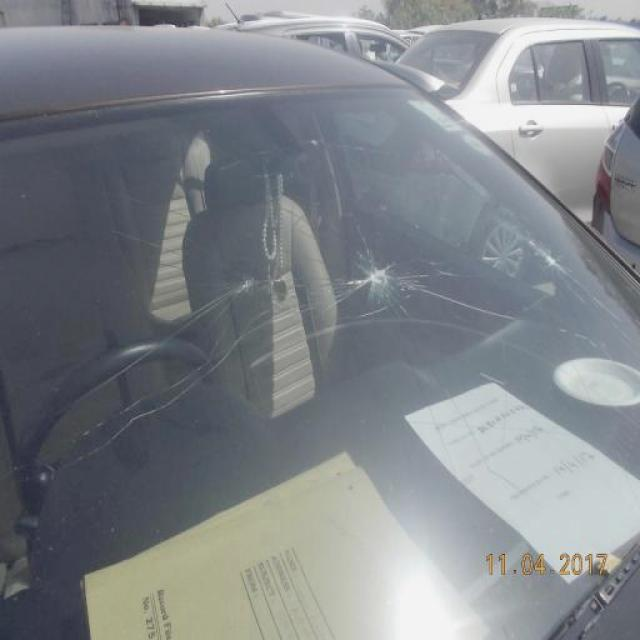car damage: (328, 209, 429, 309), (169, 268, 272, 338), (521, 230, 581, 281)
